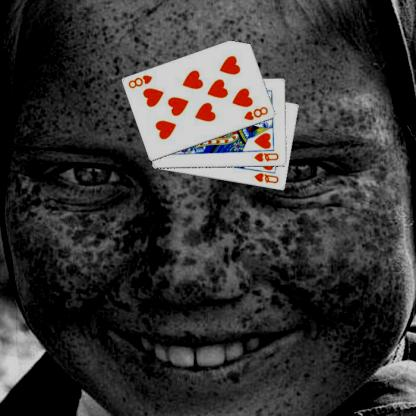8H: (243, 104, 271, 122), (128, 72, 156, 90)
QH: (254, 170, 282, 185), (253, 150, 282, 164)
